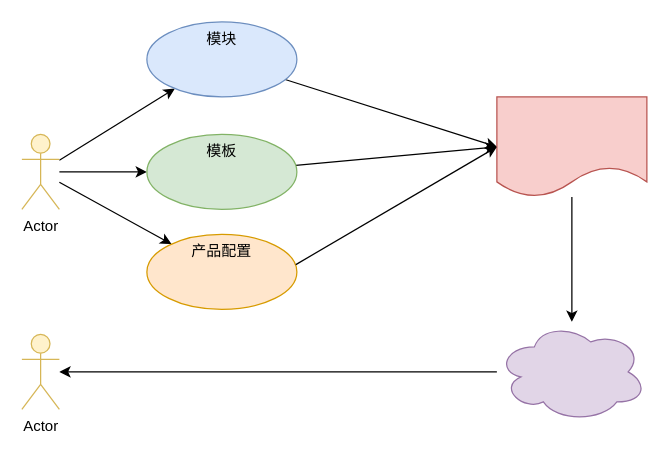
The diagram is 669 pixels wide and 458 high, and some of its shapes have lost their labels. Each missing label, with the centre of its shape:
"产品" goes at (571,371).
"关联的产品配置项" goes at (571,146).
